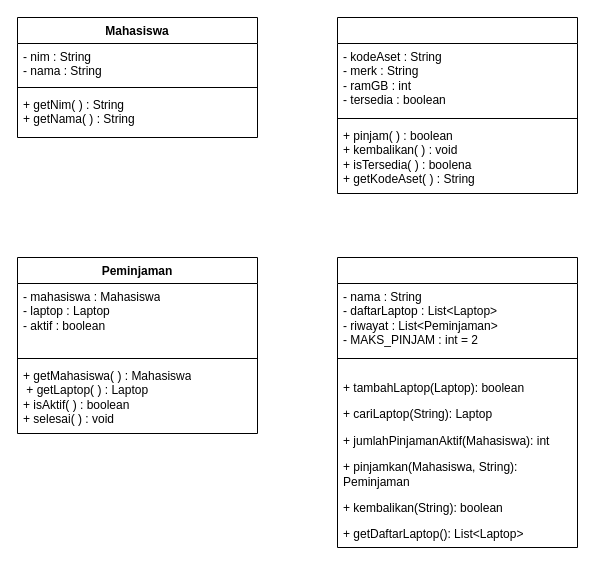
This 595x568 diagram has some shape labels left out. Each missing label, with the box of its shape:
Laboratorium: (336, 256, 578, 548)
Laptop: (336, 16, 578, 194)
